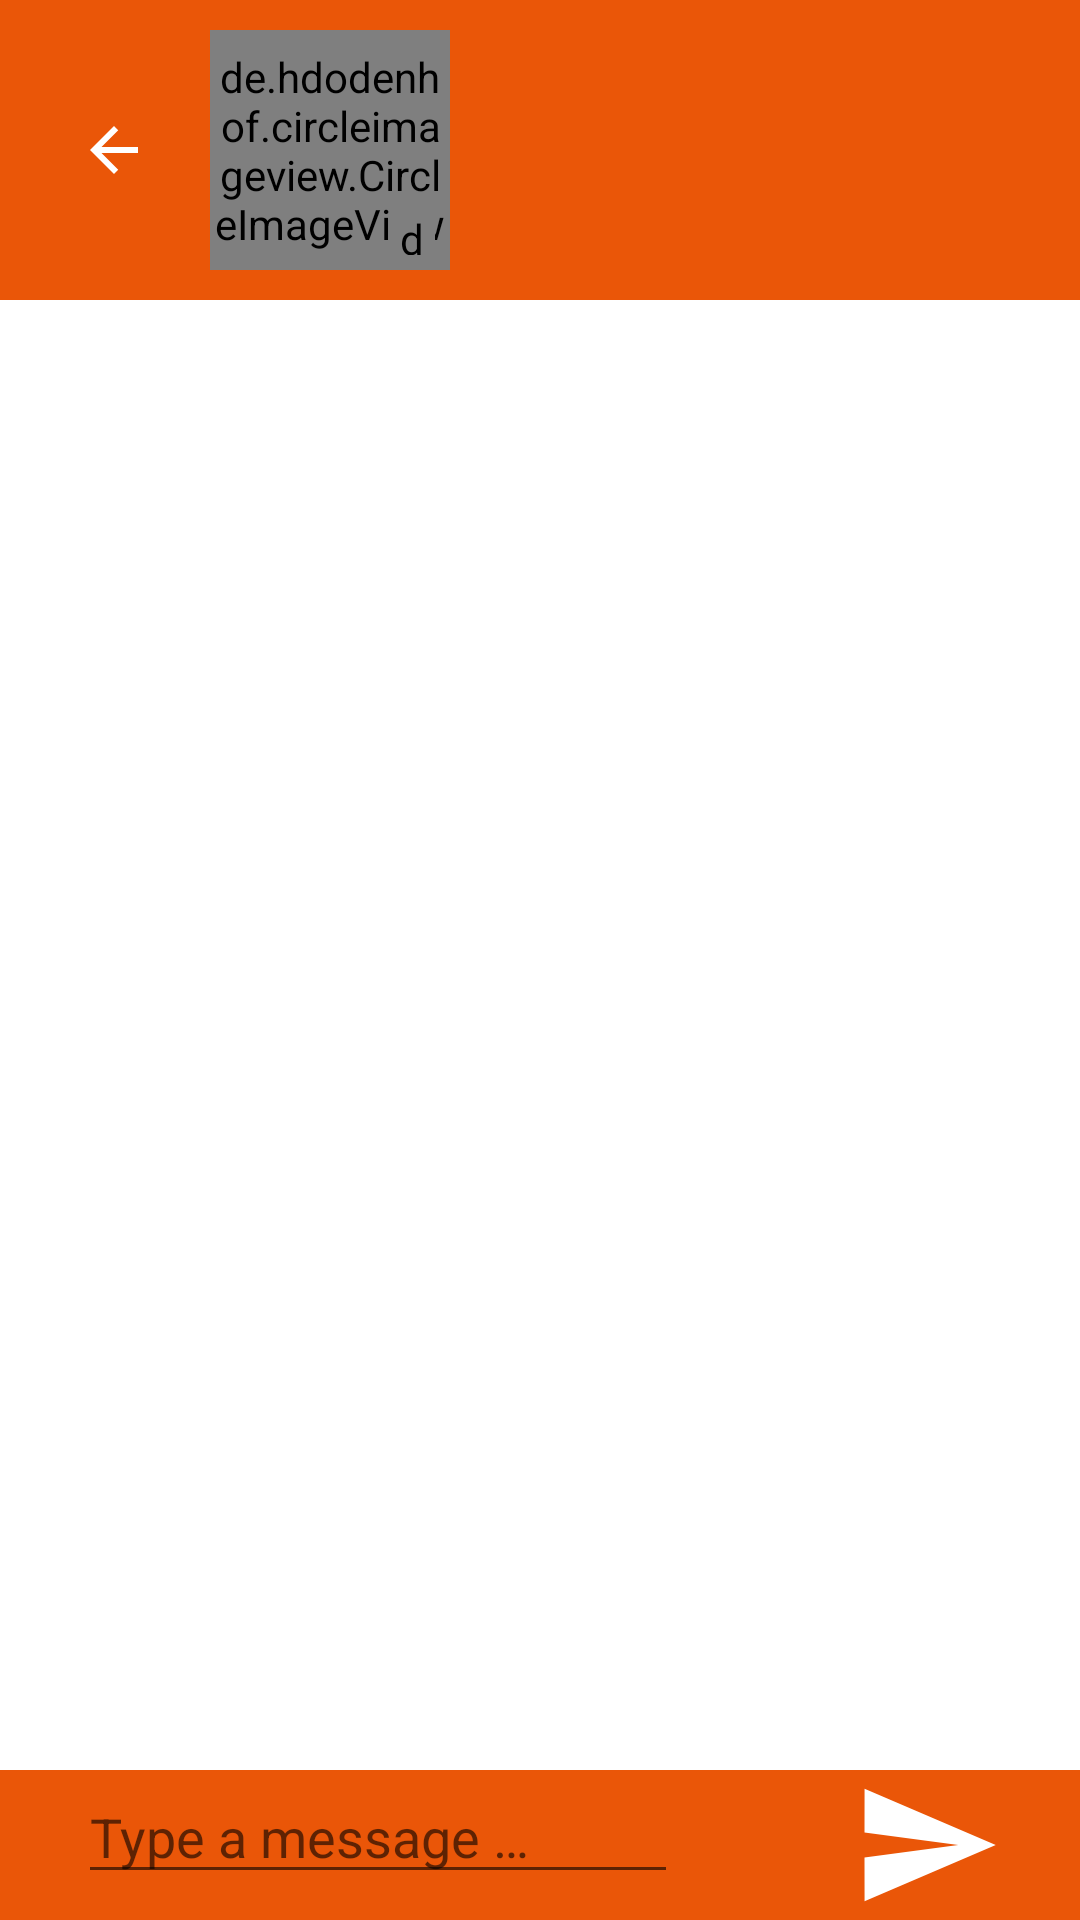

Icons on this 1080px x 1920px Android screen, each with its box as (x1=x1, y1=y1, x2=x2, y2=y2):
arrow back both: (x1=90, y1=126, x2=138, y2=174)
send: (x1=864, y1=1789, x2=996, y2=1901)
